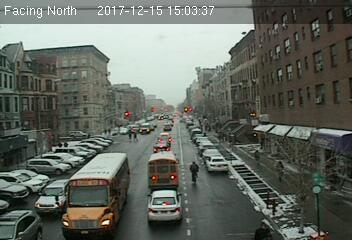bicycle: (188, 161, 199, 184)
car: (32, 179, 73, 213), (146, 189, 183, 223), (1, 209, 41, 240), (206, 156, 229, 172), (152, 143, 170, 152)
pedestrian: (274, 158, 284, 180), (254, 149, 261, 168)
truck: (60, 153, 130, 236), (146, 153, 179, 188)
